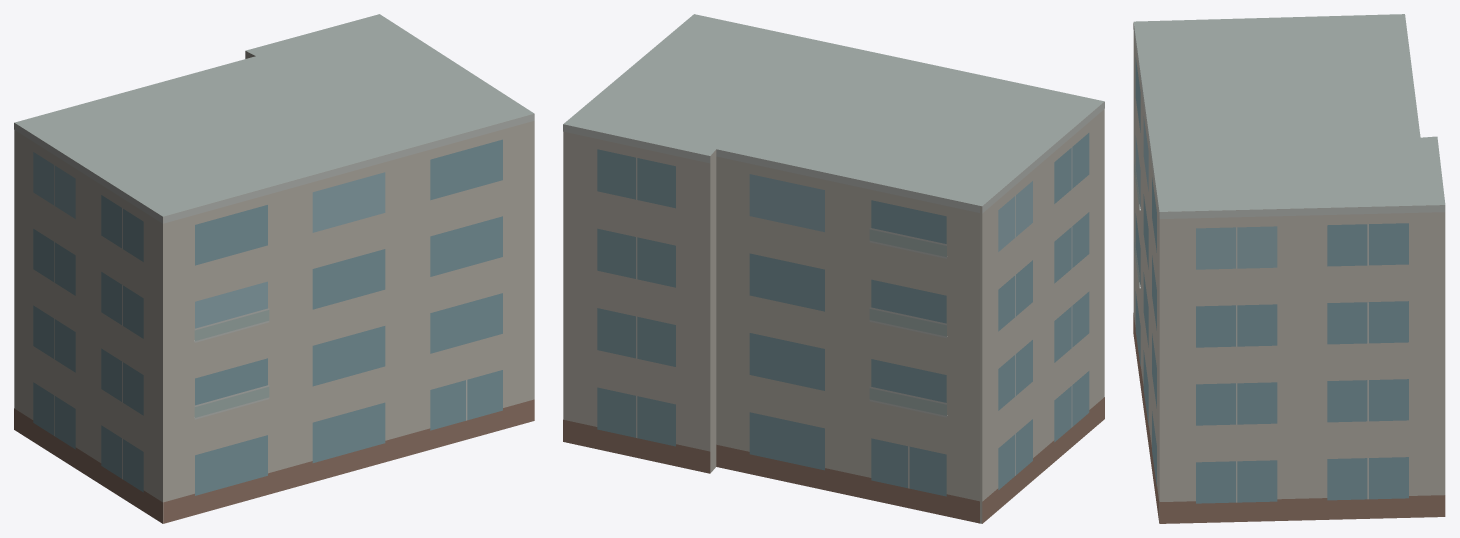
The model's file is survey-upis-32894212.glb.
3 renders of one model, left to right at view 1: azimuth 30°, elevation 25°; view 2: azimuth 150°, elevation 25°; view 3: azimuth 270°, elevation 25°, orthographic. The views are drawn at different scales.
Parts seen in each view (by area): view 1: survey-upis-32894212.tmp; view 2: survey-upis-32894212.tmp; view 3: survey-upis-32894212.tmp.
Part boxes in pixels (x1,y1,x2,y2): survey-upis-32894212.tmp: (14,14,534,523); survey-upis-32894212.tmp: (563,14,1104,523); survey-upis-32894212.tmp: (1133,14,1445,523).
Size of the model in its own units: 14.44 by 10.6 by 9.62.
